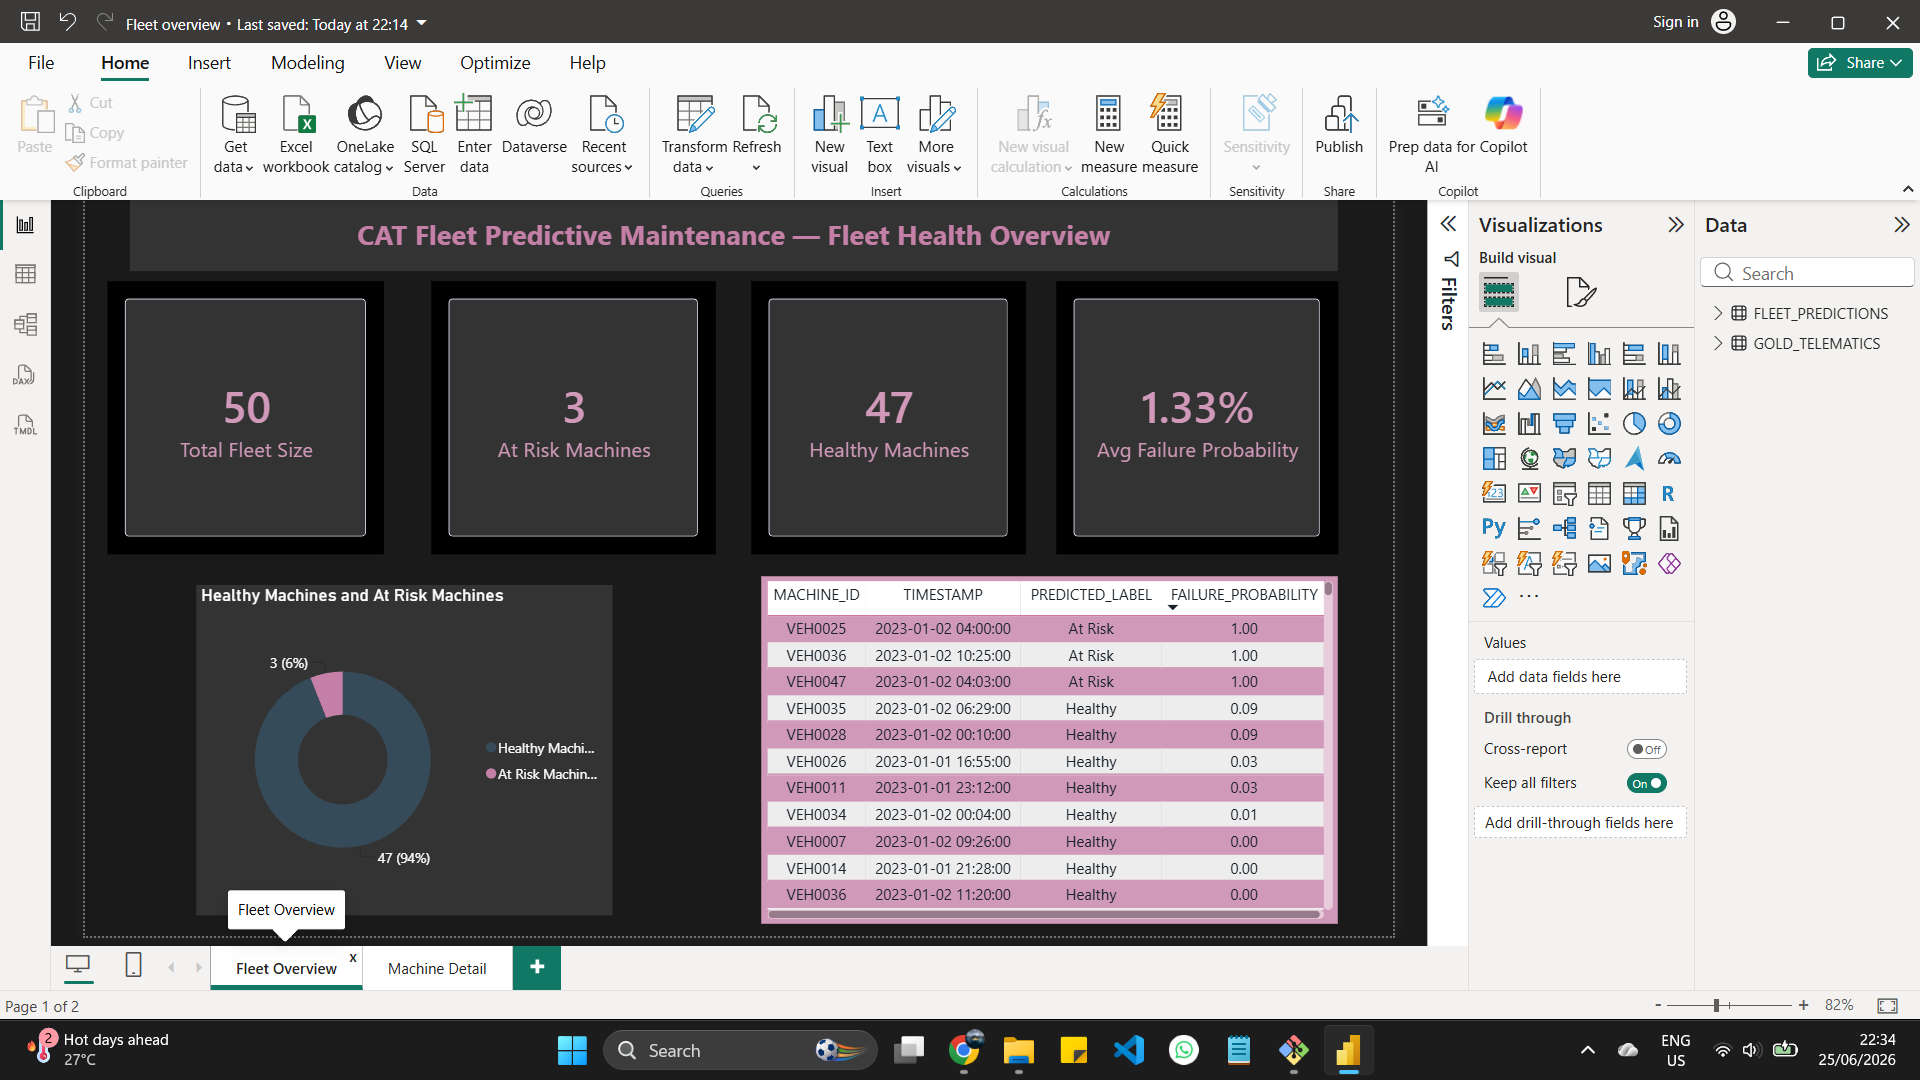

Layout of this report page (visuals, bound fields, positions):
{"tool":"powerbi","page":{"name":"Fleet Overview","canvas":[1280,720],"ordinal":0},"visuals":[{"type":"cardVisual","fields":{"Data":["Count(FLEET_PREDICTIONS.MACHINE_ID)"]},"box":[21.4,80,270,267.1],"z":0},{"type":"cardVisual","fields":{"Data":["FLEET_PREDICTIONS.Healthy Machines"]},"box":[651.4,80,268.6,267.1],"z":1000},{"type":"cardVisual","fields":{"Data":["FLEET_PREDICTIONS.At Risk Machines"]},"box":[338.6,80,278.6,267.1],"z":2000},{"type":"donutChart","fields":{"Y":["FLEET_PREDICTIONS.Healthy Machines","FLEET_PREDICTIONS.At Risk Machines"]},"box":[108.6,377.1,407.1,322.9],"z":3000},{"type":"cardVisual","fields":{"Data":["FLEET_PREDICTIONS.Avg Failure Probability"]},"box":[950,80,275.7,267.1],"z":4000},{"type":"tableEx","fields":{"Values":["FLEET_PREDICTIONS.MACHINE_ID","FLEET_PREDICTIONS.TIMESTAMP","FLEET_PREDICTIONS.PREDICTED_LABEL","FLEET_PREDICTIONS.FAILURE_PROBABILITY"]},"box":[661.4,368.6,564.3,340],"z":5000},{"type":"textbox","box":[43.9,0,1181.5,70],"z":6000}]}

Visuals, with their boxes on the page's 1280x720 design canvas (x1, y1, x2, y2). These are canvas units, not pixel positions in the 1920x1080 screenshot, which may show the page scaled, cropped or inside an application window:
cardVisual - Count(FLEET_PREDICTIONS.MACHINE_ID): (21,80,291,347)
cardVisual - FLEET_PREDICTIONS.Healthy Machines: (651,80,920,347)
cardVisual - FLEET_PREDICTIONS.At Risk Machines: (339,80,617,347)
donutChart - FLEET_PREDICTIONS.Healthy Machines x FLEET_PREDICTIONS.At Risk Machines: (109,377,516,700)
cardVisual - FLEET_PREDICTIONS.Avg Failure Probability: (950,80,1226,347)
tableEx - FLEET_PREDICTIONS.MACHINE_ID x FLEET_PREDICTIONS.TIMESTAMP: (661,369,1226,709)
textbox: (44,0,1225,70)
